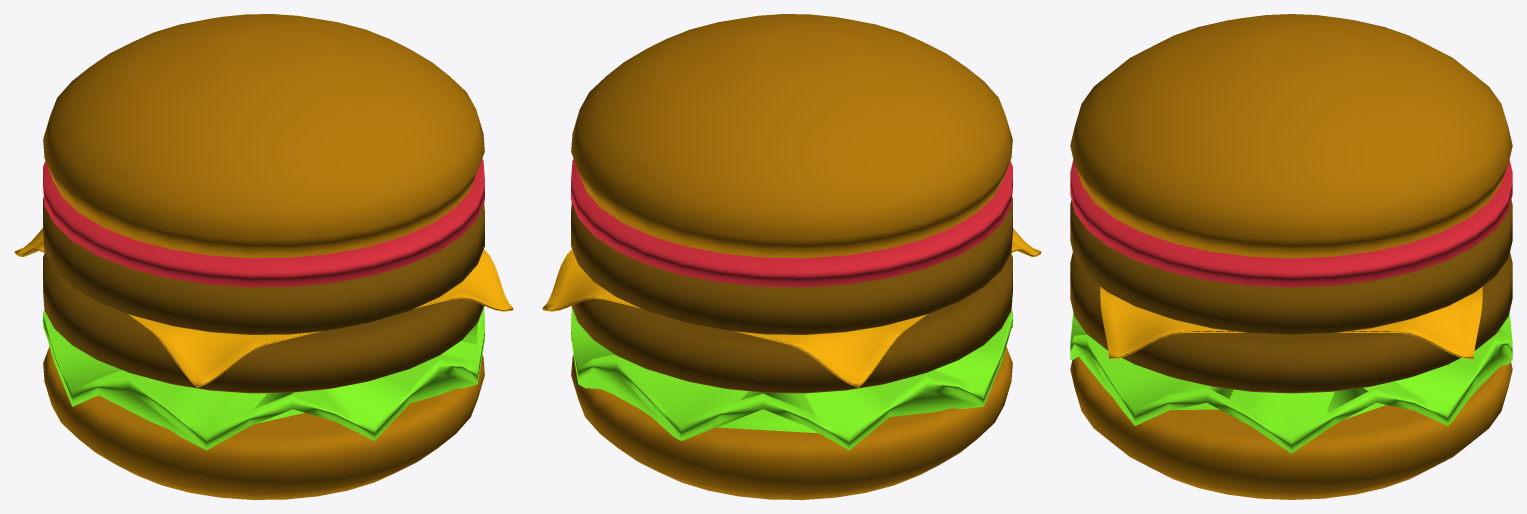
The model's file is hamburger.fbx.
3 renders of one model, left to right at view 1: azimuth 30°, elevation 25°; view 2: azimuth 150°, elevation 25°; view 3: azimuth 270°, elevation 25°, orthographic.
Visible parts, largest first — view 1: hamburger; view 2: hamburger; view 3: hamburger.
Boxes of the visible parts, x1,y1,x2,y2 form: hamburger: (14, 14, 513, 499); hamburger: (542, 14, 1041, 499); hamburger: (1070, 14, 1512, 499).
Bounding box in the file's own units: 200 × 193 × 200.
